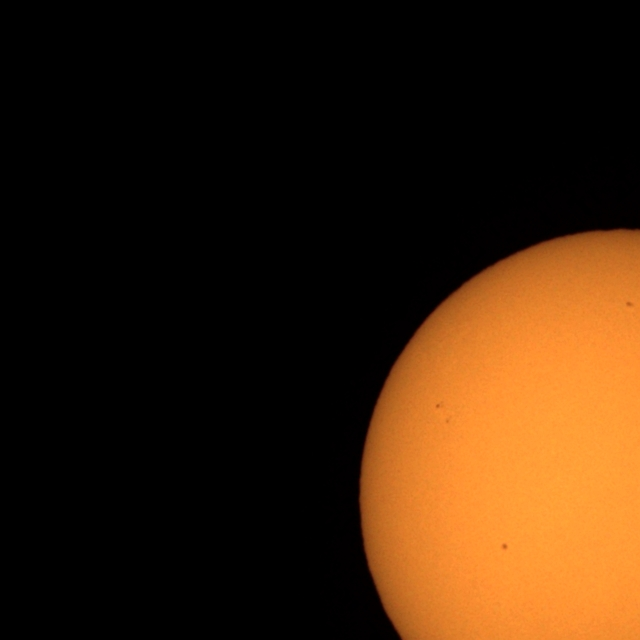sunspot: (434, 401, 451, 424), (500, 542, 509, 552), (625, 300, 635, 308), (435, 401, 443, 410), (443, 417, 451, 425)
